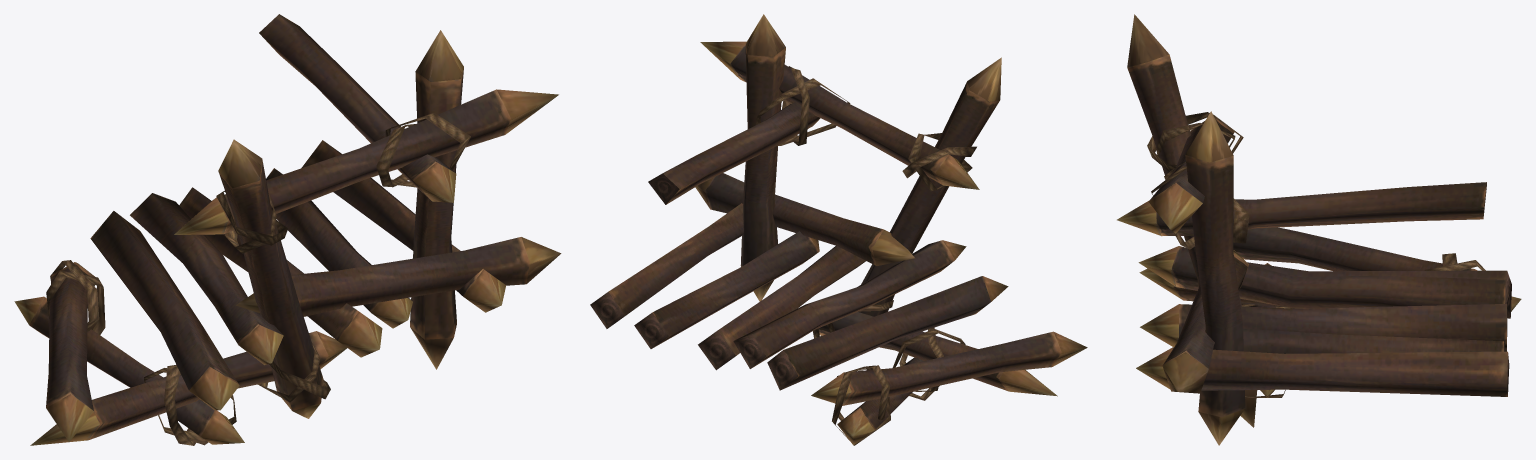
Rendered from lava_scaffolding_02.fbx.
3 renders of one model, left to right at view 1: azimuth 30°, elevation 25°; view 2: azimuth 150°, elevation 25°; view 3: azimuth 270°, elevation 25°, orthographic. The views are drawn at different scales.
Parts seen in each view (by area): view 1: lava_scaffolding_02; view 2: lava_scaffolding_02; view 3: lava_scaffolding_02.
Part boxes in pixels (x1,y1,x2,y2): lava_scaffolding_02: [14, 14, 561, 445]; lava_scaffolding_02: [590, 14, 1087, 445]; lava_scaffolding_02: [1117, 14, 1521, 445].
Bounding box in the file's own units: 2.79 × 2.11 × 2.07.
